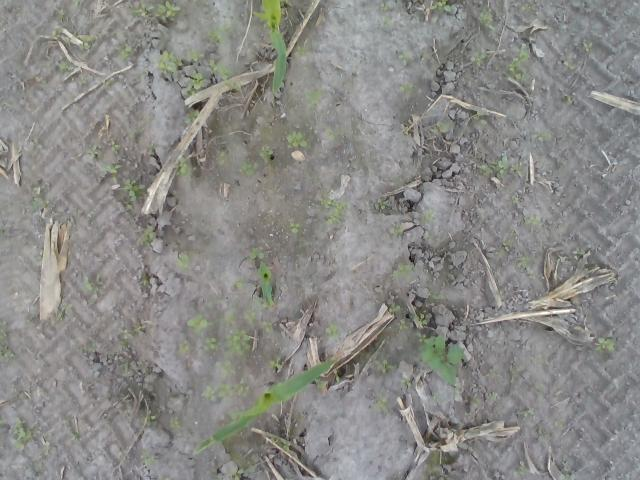Maize: (190, 359, 329, 459), (246, 0, 288, 96), (256, 260, 277, 304)
Weeds: (416, 330, 464, 386), (224, 312, 256, 354), (200, 377, 250, 400), (128, 0, 180, 22), (206, 63, 242, 92), (502, 48, 530, 80), (320, 193, 348, 225), (121, 177, 146, 209), (158, 48, 182, 77), (0, 320, 16, 362), (480, 156, 508, 178), (285, 127, 312, 149), (15, 416, 32, 450), (206, 23, 232, 45), (80, 272, 102, 295), (303, 88, 322, 112), (30, 184, 48, 208), (379, 2, 396, 26), (391, 262, 415, 279), (232, 463, 256, 480), (211, 360, 235, 377), (188, 314, 208, 334), (186, 74, 204, 96), (375, 390, 390, 416), (594, 336, 616, 353), (429, 0, 454, 14), (478, 12, 496, 31), (116, 42, 134, 61), (174, 340, 191, 359), (374, 360, 396, 374), (78, 32, 96, 49), (254, 144, 273, 160), (79, 338, 98, 354), (270, 434, 289, 450), (176, 155, 189, 178), (410, 310, 428, 326), (239, 160, 257, 176), (56, 304, 72, 322), (202, 334, 218, 352), (143, 225, 156, 247), (429, 120, 449, 134), (323, 323, 339, 340), (388, 222, 402, 241), (228, 276, 247, 290), (186, 48, 206, 61), (127, 323, 145, 337), (56, 63, 74, 77), (119, 328, 129, 352), (176, 253, 190, 270), (499, 239, 512, 257), (102, 164, 121, 176), (516, 255, 530, 271), (399, 81, 416, 94), (325, 126, 337, 144), (471, 50, 486, 64), (398, 50, 411, 66), (561, 55, 574, 71), (473, 111, 485, 128), (374, 198, 390, 210), (250, 246, 264, 259), (260, 320, 274, 333), (168, 416, 182, 429), (399, 376, 414, 388), (534, 130, 552, 140), (186, 110, 198, 125), (524, 214, 540, 225), (430, 292, 447, 302), (127, 127, 144, 137), (86, 144, 98, 158), (512, 466, 528, 476), (288, 222, 300, 234), (510, 164, 522, 176), (107, 140, 119, 152), (214, 150, 227, 161), (559, 472, 576, 480), (139, 272, 148, 287), (315, 380, 326, 392), (388, 304, 401, 314), (147, 415, 158, 426), (423, 211, 433, 223), (583, 41, 593, 53), (75, 75, 87, 85), (399, 318, 408, 331), (296, 46, 306, 57), (432, 391, 442, 402), (269, 358, 280, 368), (485, 368, 497, 377), (486, 391, 498, 400), (144, 451, 152, 464), (51, 30, 61, 40), (56, 8, 64, 20), (520, 4, 530, 13), (562, 95, 572, 104), (471, 398, 481, 406), (452, 387, 458, 400), (334, 374, 341, 384), (72, 0, 80, 8), (102, 80, 112, 86), (158, 475, 170, 480), (512, 196, 518, 204), (147, 143, 155, 148)
